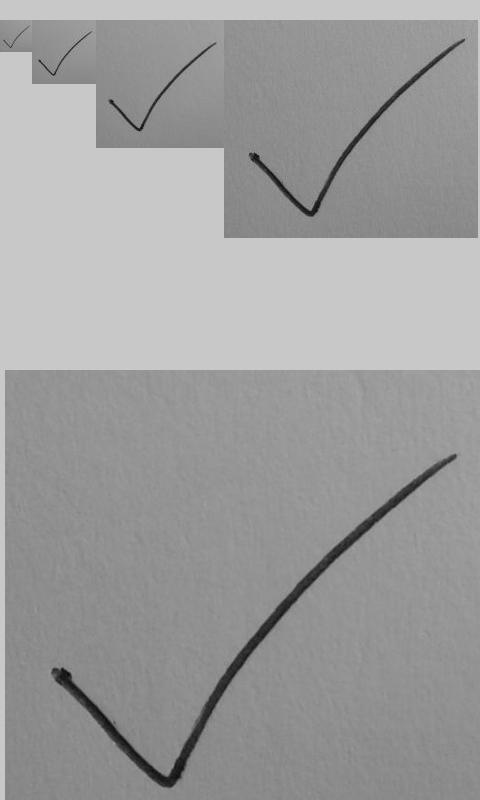check_box: (50, 451, 453, 789), (251, 39, 466, 216), (109, 43, 217, 131), (38, 31, 92, 76), (3, 25, 30, 48)
